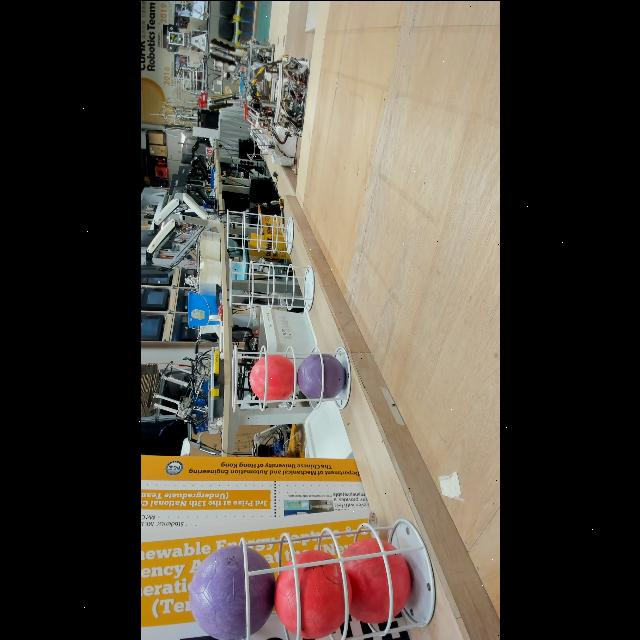P: (186, 542, 276, 640), (296, 351, 346, 401)
R: (271, 548, 353, 640), (336, 537, 414, 625), (248, 353, 298, 401)
S: (233, 516, 437, 640), (228, 342, 352, 413), (228, 258, 314, 312), (224, 208, 294, 254)
